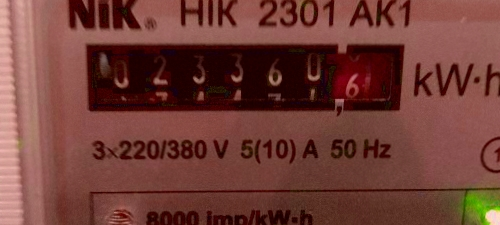0: (108, 54, 130, 89), (301, 48, 323, 83)
2: (148, 51, 169, 87)
3: (187, 51, 207, 86), (226, 50, 244, 84)
6: (263, 52, 283, 87), (341, 67, 360, 100)
screen: (71, 28, 423, 130)
